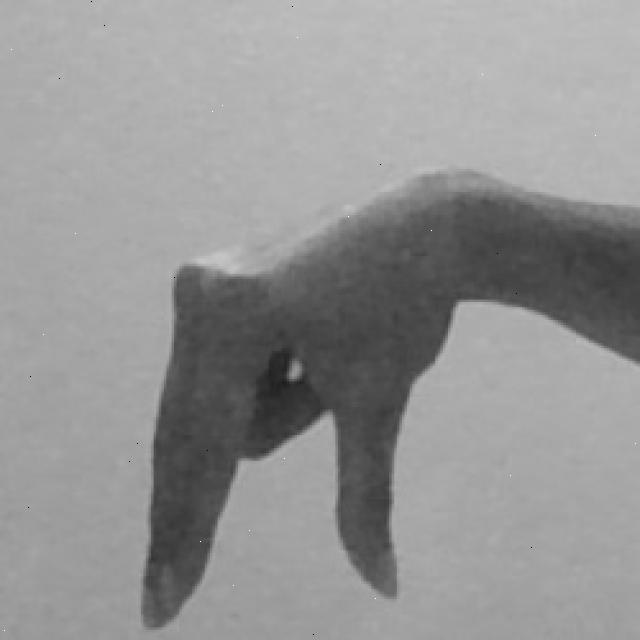Q: (132, 153, 639, 640)
